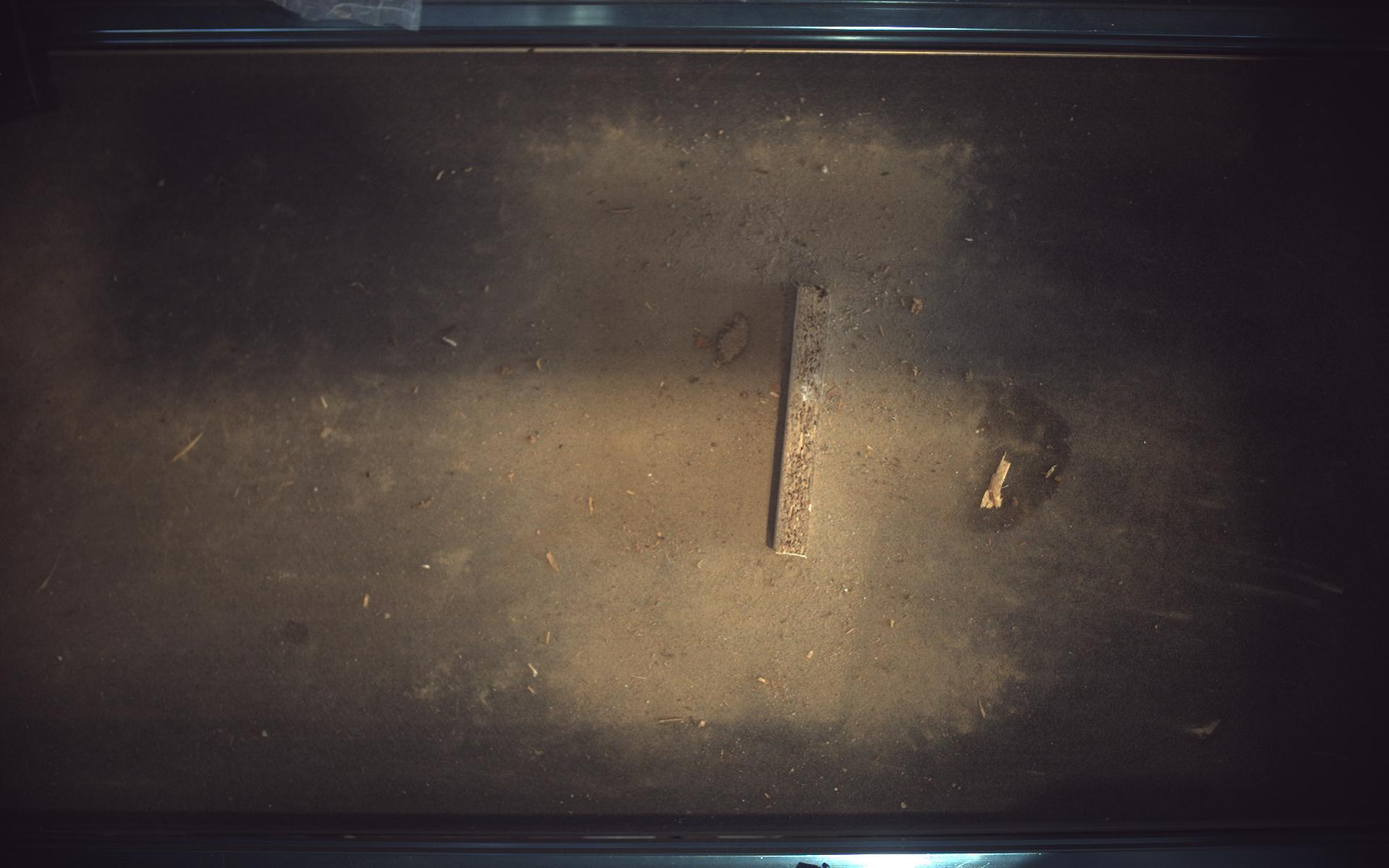wood: (775, 284, 830, 557)
